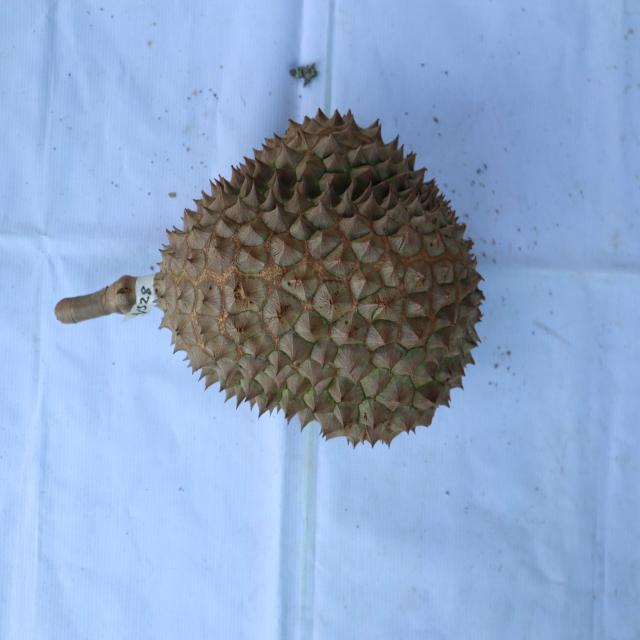mature: (157, 106, 489, 456)
